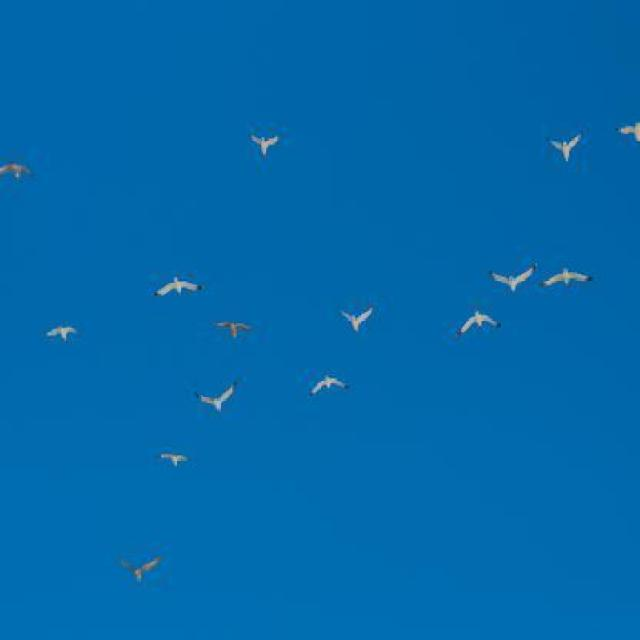bird: (149, 272, 203, 303), (194, 378, 240, 414), (120, 550, 163, 588), (488, 263, 538, 294), (337, 302, 380, 336), (546, 129, 585, 165), (457, 309, 501, 340), (540, 265, 594, 289), (308, 372, 352, 400), (245, 129, 283, 160), (214, 316, 252, 342), (0, 158, 35, 186), (40, 323, 80, 345), (157, 449, 189, 471), (616, 115, 638, 143)
